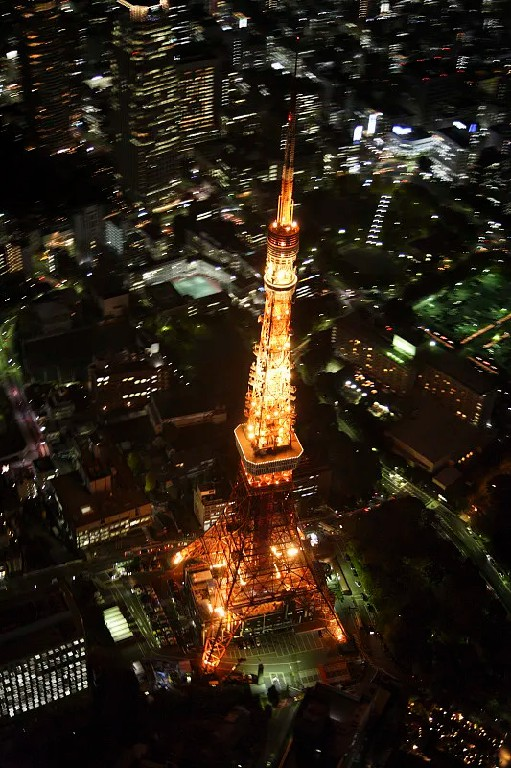Tokyo: (151, 31, 349, 663)
